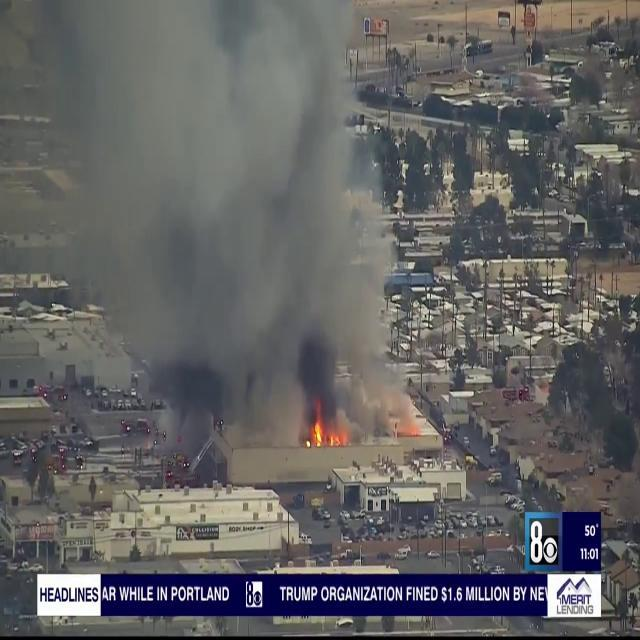Fire: (307, 412, 347, 450)
Smoke: (78, 1, 417, 453)
